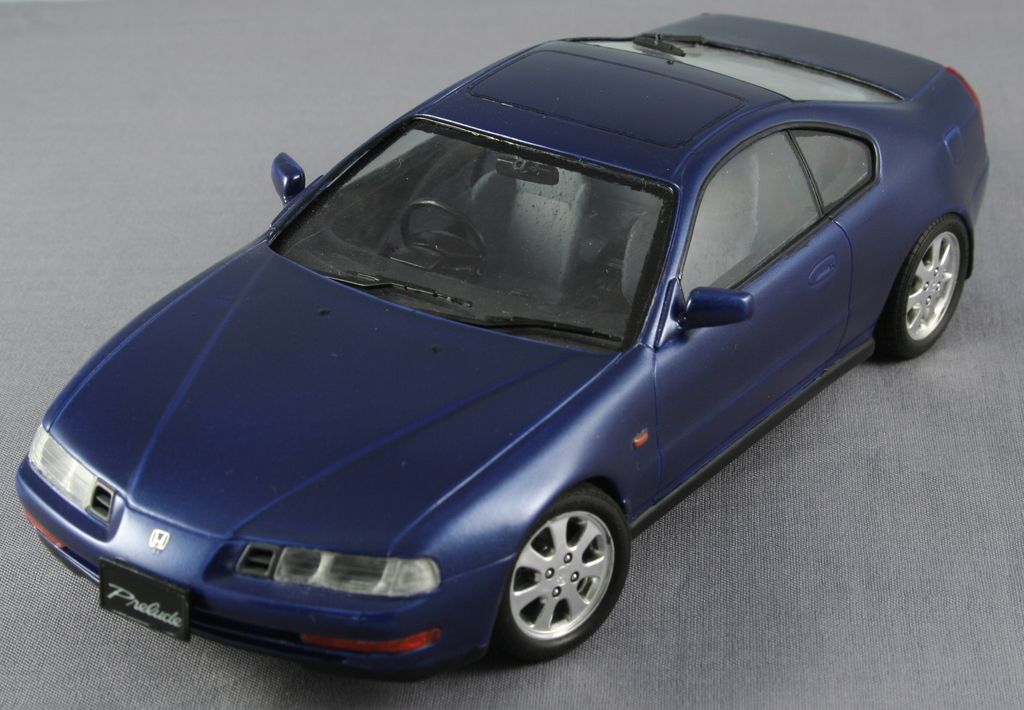Car: (32, 48, 965, 674)
